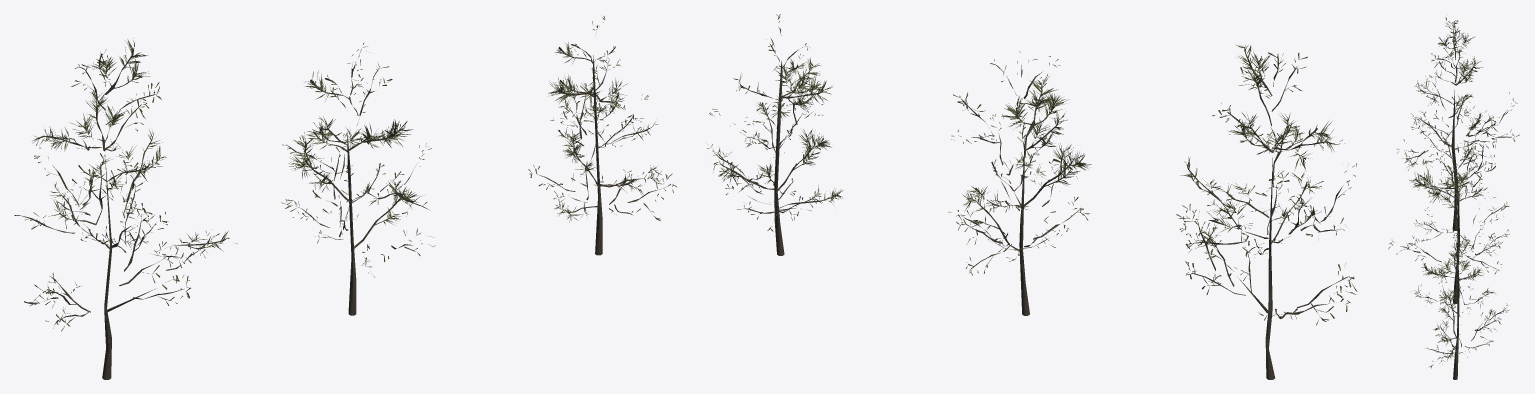
Rendered from chinese_pine.glb.
3 renders of one model, left to right at view 1: azimuth 30°, elevation 25°; view 2: azimuth 150°, elevation 25°; view 3: azimuth 270°, elevation 25°, orthographic. The views are drawn at different scales.
Parts seen in each view (by area): view 1: pine_sapling_small_a, pine_sapling_small_b, pine_sapling_small_c; view 2: pine_sapling_small_a, pine_sapling_small_b, pine_sapling_small_c; view 3: pine_sapling_small_a, pine_sapling_small_b, pine_sapling_small_c.
Boxes of the visible parts, bbox=[...] form: pine_sapling_small_a: bbox=[14, 38, 237, 379]; pine_sapling_small_b: bbox=[281, 42, 435, 315]; pine_sapling_small_c: bbox=[528, 16, 676, 255]; pine_sapling_small_a: bbox=[1176, 45, 1357, 379]; pine_sapling_small_b: bbox=[948, 51, 1091, 315]; pine_sapling_small_c: bbox=[707, 14, 842, 255]; pine_sapling_small_a: bbox=[1396, 17, 1519, 230]; pine_sapling_small_b: bbox=[1388, 142, 1509, 303]; pine_sapling_small_c: bbox=[1414, 232, 1508, 379].
Bounding box in the file's own units: 2.6 × 1.29 × 0.7472.
2 materials, 2 textured.
